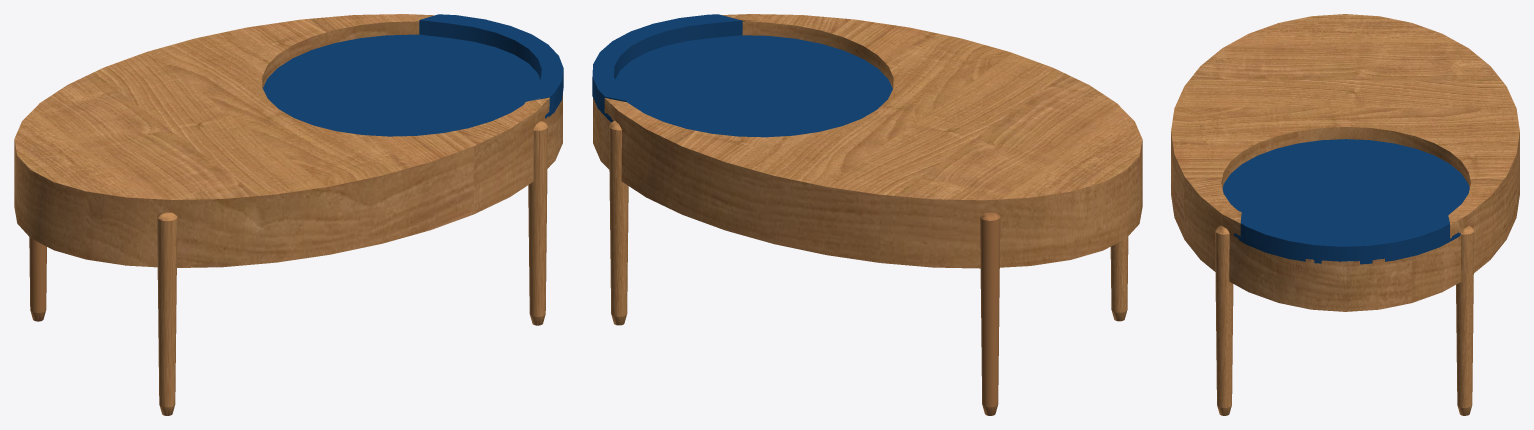
The model's file is tablebasse.glb.
3 renders of one model, left to right at view 1: azimuth 30°, elevation 25°; view 2: azimuth 150°, elevation 25°; view 3: azimuth 270°, elevation 25°, orthographic. The views are drawn at different scales.
Visible parts, largest first — view 1: Object_4, Circle.017_1; view 2: Object_4, Circle.017_1; view 3: Object_4, Circle.017_1.
Boxes of the visible parts, <box> form: Object_4: <box>14,14,562,415</box>; Circle.017_1: <box>263,14,563,136</box>; Object_4: <box>593,14,1142,415</box>; Circle.017_1: <box>592,14,892,137</box>; Object_4: <box>1171,14,1519,415</box>; Circle.017_1: <box>1222,139,1469,264</box>.
Size of the model in its own units: 1.11 by 0.4438 by 0.7.
2 materials, 1 textured.
